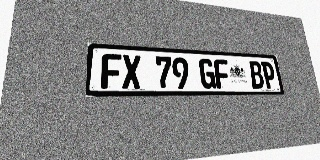7: (154, 56, 173, 89)
9: (172, 57, 190, 89)
B: (248, 61, 265, 89)
F: (101, 53, 121, 89), (213, 59, 231, 89)
G: (198, 58, 216, 89)
P: (261, 62, 277, 89)
X: (122, 54, 141, 89)
